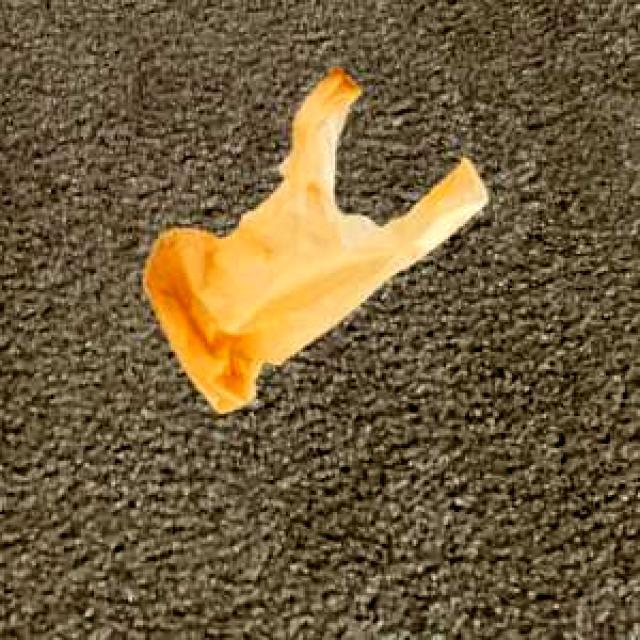Plastic_Bag: (142, 63, 486, 411)
